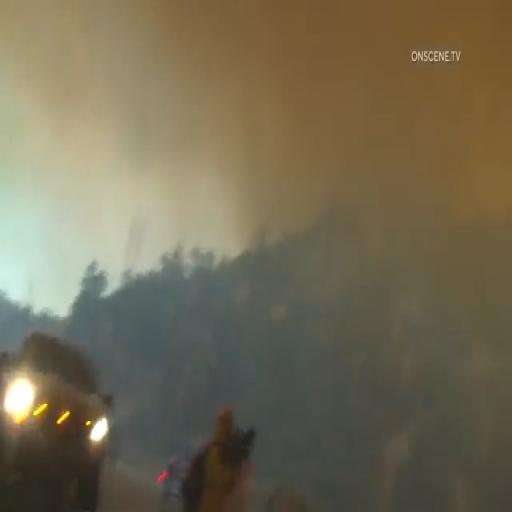fire: (202, 0, 237, 3)
